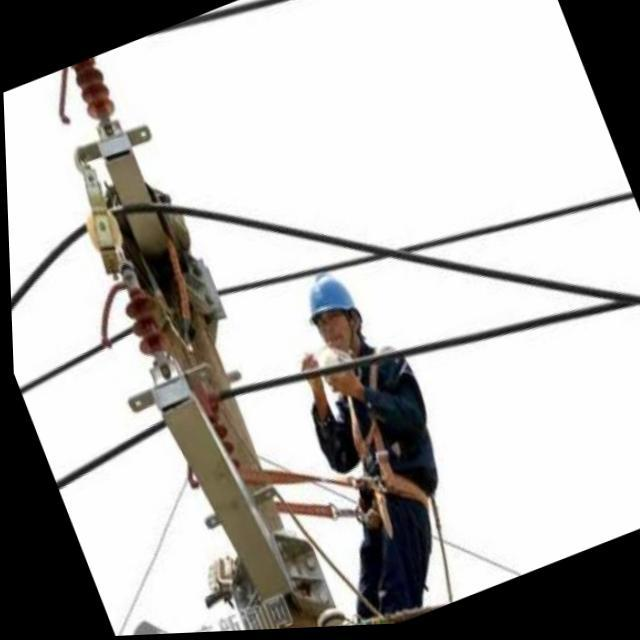belt: (197, 388, 470, 634)
